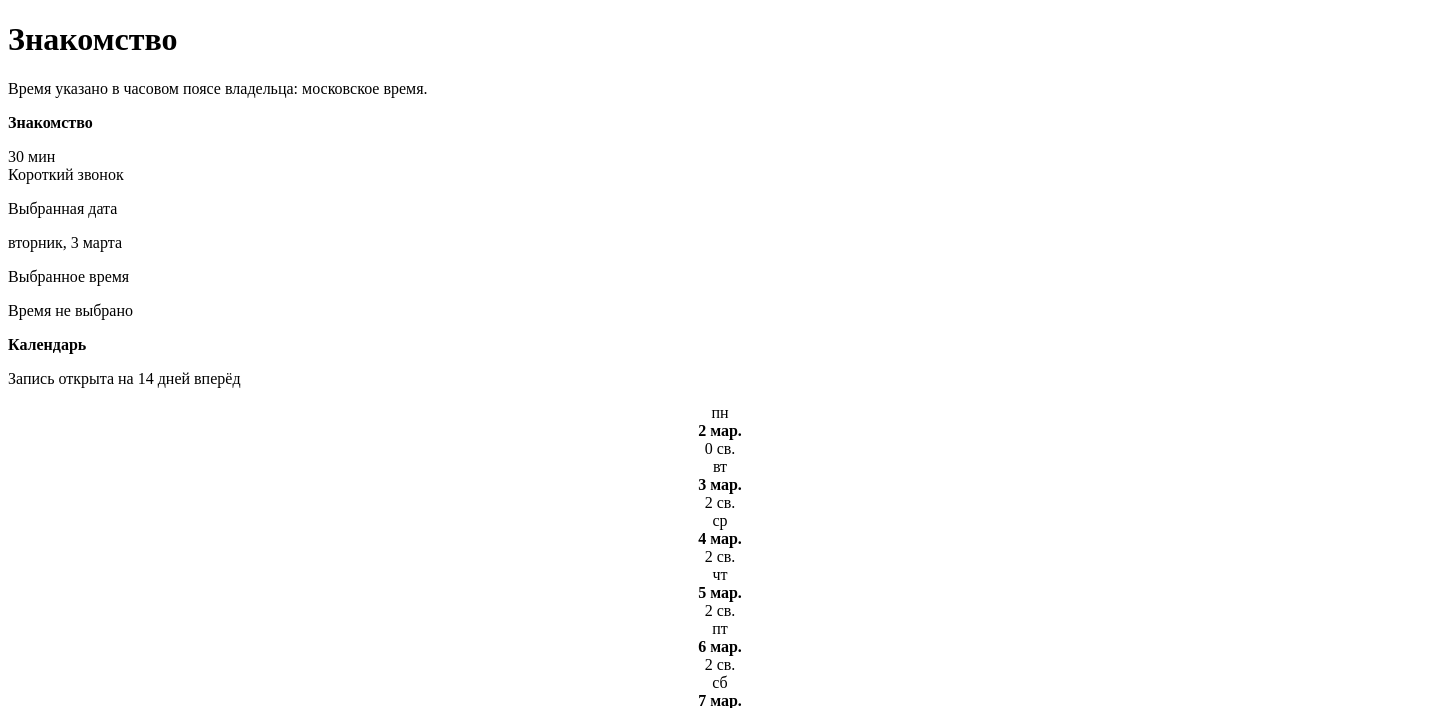
Scenario: гость выбирает день и слот, выбор показан в карточке встречи
The image size is (1440, 708).
Step 1. Click the button "ср 4 мар. 2 св." → (720, 539), box [8,512,1432,566]
(page scrolled)
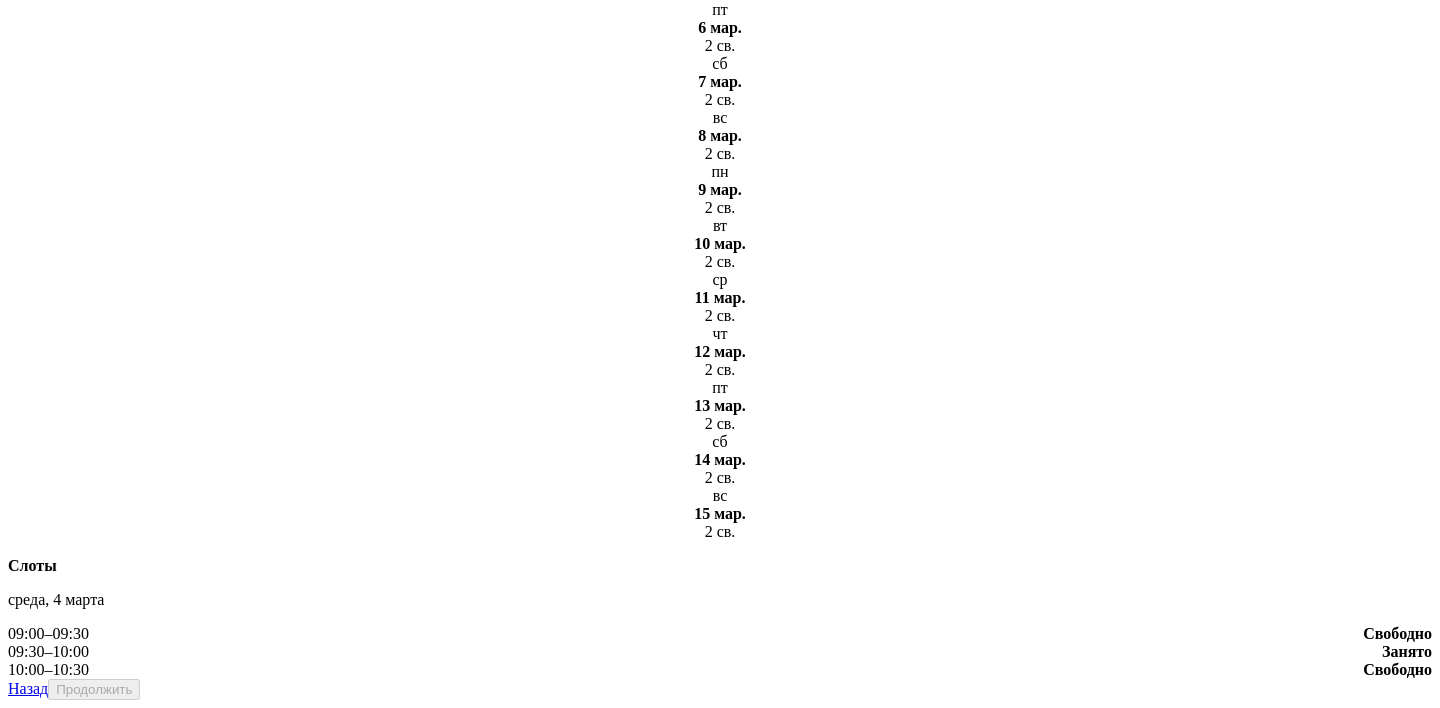
Step 2. Click the button "09:00–09:30 Свободно" → (48, 633), box [8,625,1432,643]
(page scrolled)
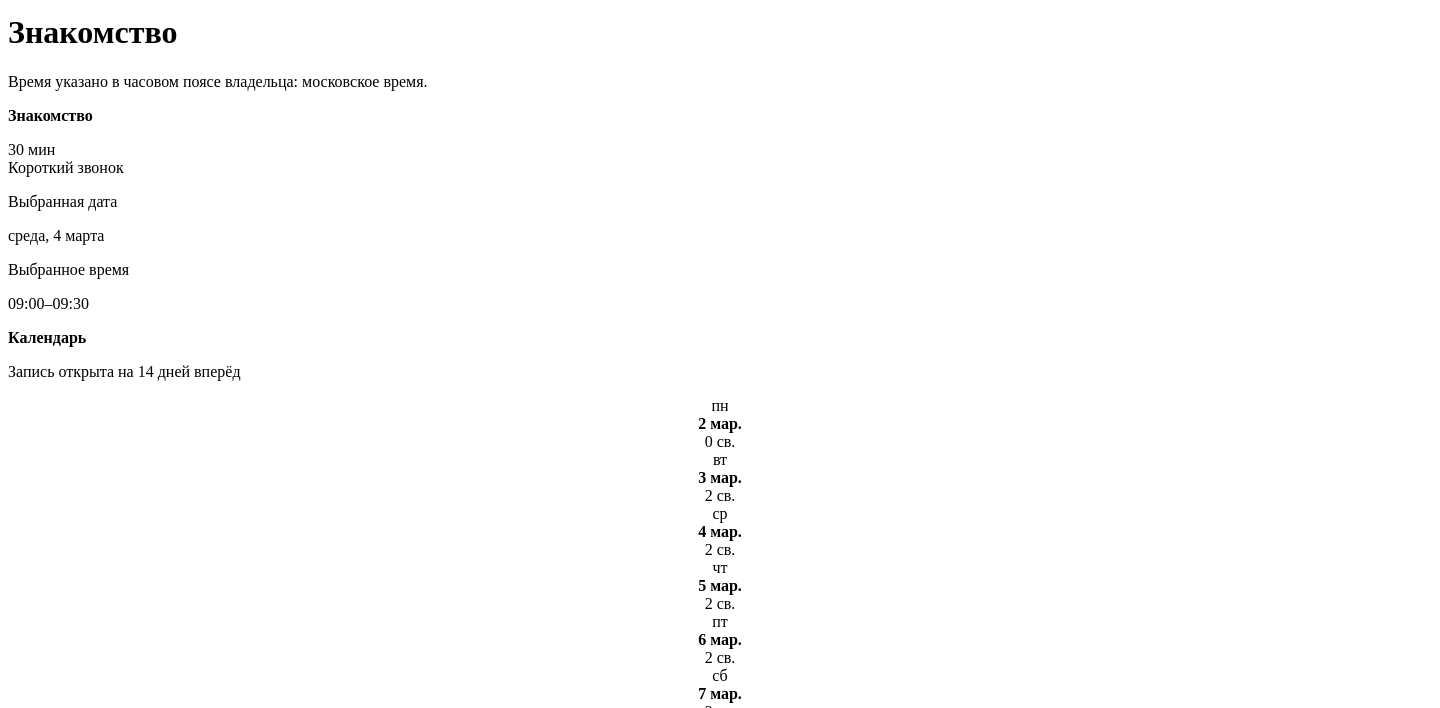
Expected: the text "среда, 4 марта" is shown, [8,227,104,244]
Expected: the text "09:00–09:30" is shown, [8,295,89,312]
